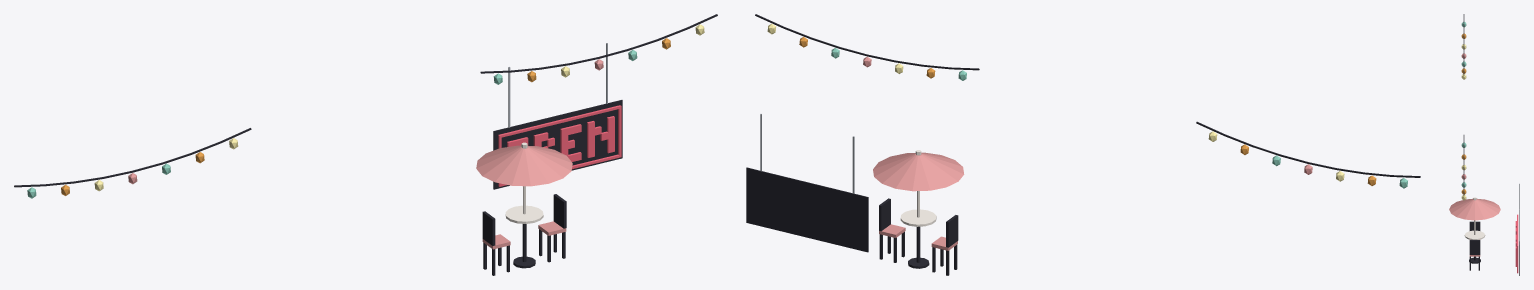
The model's file is CatCafe_Plot_Tier3.glb.
3 renders of one model, left to right at view 1: azimuth 30°, elevation 25°; view 2: azimuth 150°, elevation 25°; view 3: azimuth 270°, elevation 25°, orthographic. The views are drawn at different scales.
Visible parts, largest first — view 1: CatCafe_Plot_Tier3, CatCafe_Plot_Tier3_Sign_Tube, CatCafe_Plot_Tier3_StringLights_Bulbs; view 2: CatCafe_Plot_Tier3, CatCafe_Plot_Tier3_StringLights_Bulbs; view 3: CatCafe_Plot_Tier3, CatCafe_Plot_Tier3_StringLights_Bulbs, CatCafe_Plot_Tier3_Sign_Tube.
Boxes of the visible parts, box(x1,y1,x2,y2) form: CatCafe_Plot_Tier3: box(14, 14, 717, 275); CatCafe_Plot_Tier3_Sign_Tube: box(498, 105, 621, 186); CatCafe_Plot_Tier3_StringLights_Bulbs: box(27, 24, 704, 198); CatCafe_Plot_Tier3: box(746, 14, 1420, 275); CatCafe_Plot_Tier3_StringLights_Bulbs: box(767, 24, 1407, 188); CatCafe_Plot_Tier3: box(1449, 14, 1519, 275); CatCafe_Plot_Tier3_StringLights_Bulbs: box(1461, 22, 1466, 200); CatCafe_Plot_Tier3_Sign_Tube: box(1515, 214, 1518, 273).
Bounding box in the file's own units: 31.66 × 9.13 × 5.2.
1 material, 1 textured.
